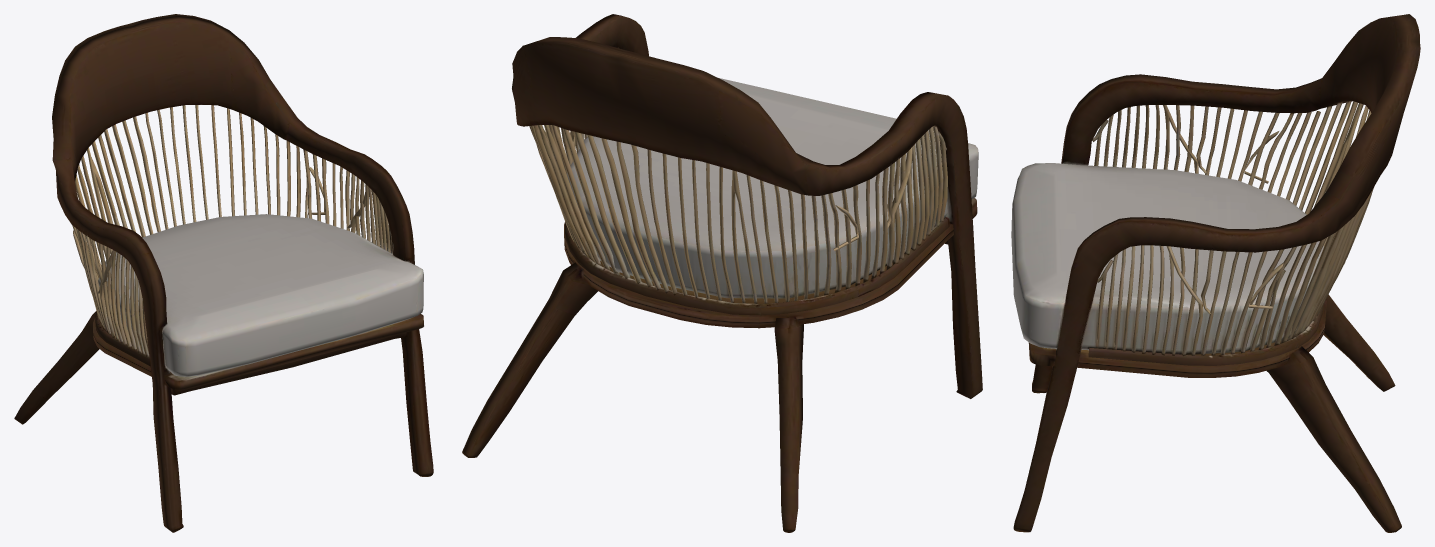
File: draco-webp-armchair.glb
3 views of the same model, side by side, from view 1: azimuth 30°, elevation 25°; view 2: azimuth 150°, elevation 25°; view 3: azimuth 270°, elevation 25° (orthographic). The views are drawn at different scales.
Visible parts, largest first — view 1: tripo_node_7fe1bb1e-de85-4ae9-aff7-4b09d08780e7; view 2: tripo_node_7fe1bb1e-de85-4ae9-aff7-4b09d08780e7; view 3: tripo_node_7fe1bb1e-de85-4ae9-aff7-4b09d08780e7.
Boxes of the visible parts, left/top/right/bottom form: tripo_node_7fe1bb1e-de85-4ae9-aff7-4b09d08780e7: left=14, top=14, right=433, bottom=532; tripo_node_7fe1bb1e-de85-4ae9-aff7-4b09d08780e7: left=462, top=14, right=982, bottom=532; tripo_node_7fe1bb1e-de85-4ae9-aff7-4b09d08780e7: left=1011, top=14, right=1420, bottom=532.
Size of the model in its own units: 0.7935 by 0.9995 by 0.8852.
Materials: 1 (1 with a texture image).
